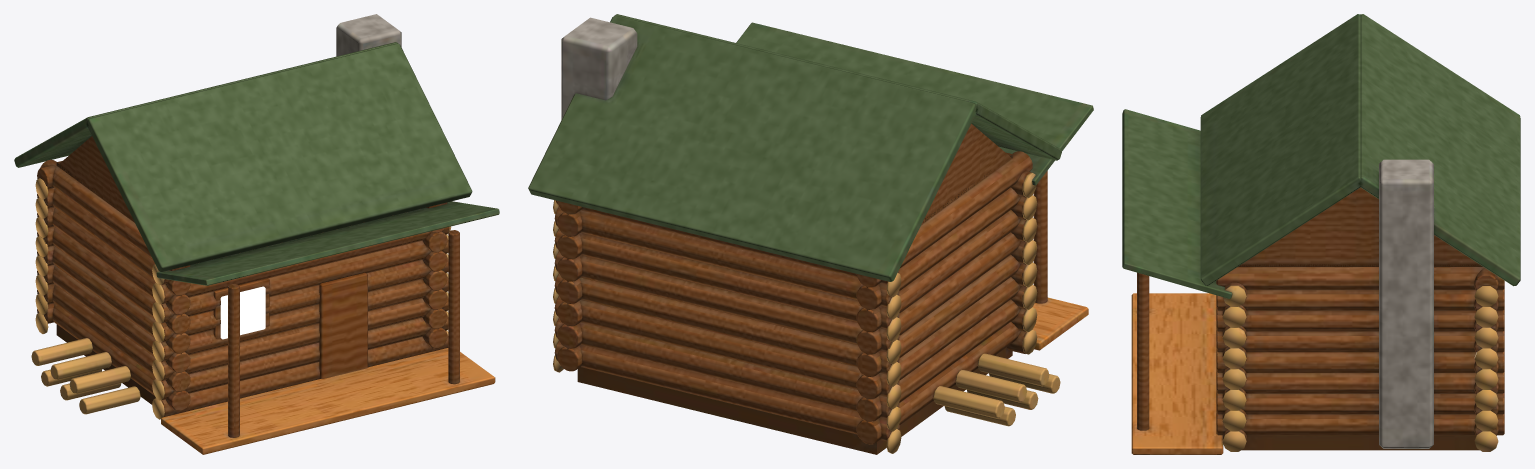
The model's file is log_cabin.glb.
The picture shows the model from 3 angles, left to right: view 1: azimuth 30°, elevation 25°; view 2: azimuth 150°, elevation 25°; view 3: azimuth 270°, elevation 25°; orthographic projection. The views are drawn at different scales.
Parts seen in each view (by area): view 1: log_cabin; view 2: log_cabin; view 3: log_cabin.
Boxes of the visible parts, <box> form: log_cabin: <box>14,14,499,454</box>; log_cabin: <box>528,14,1093,454</box>; log_cabin: <box>1122,14,1520,454</box>.
Size of the model in its own units: 1.97 by 1.4 by 1.74.
Materials: 1 (1 with a texture image).
